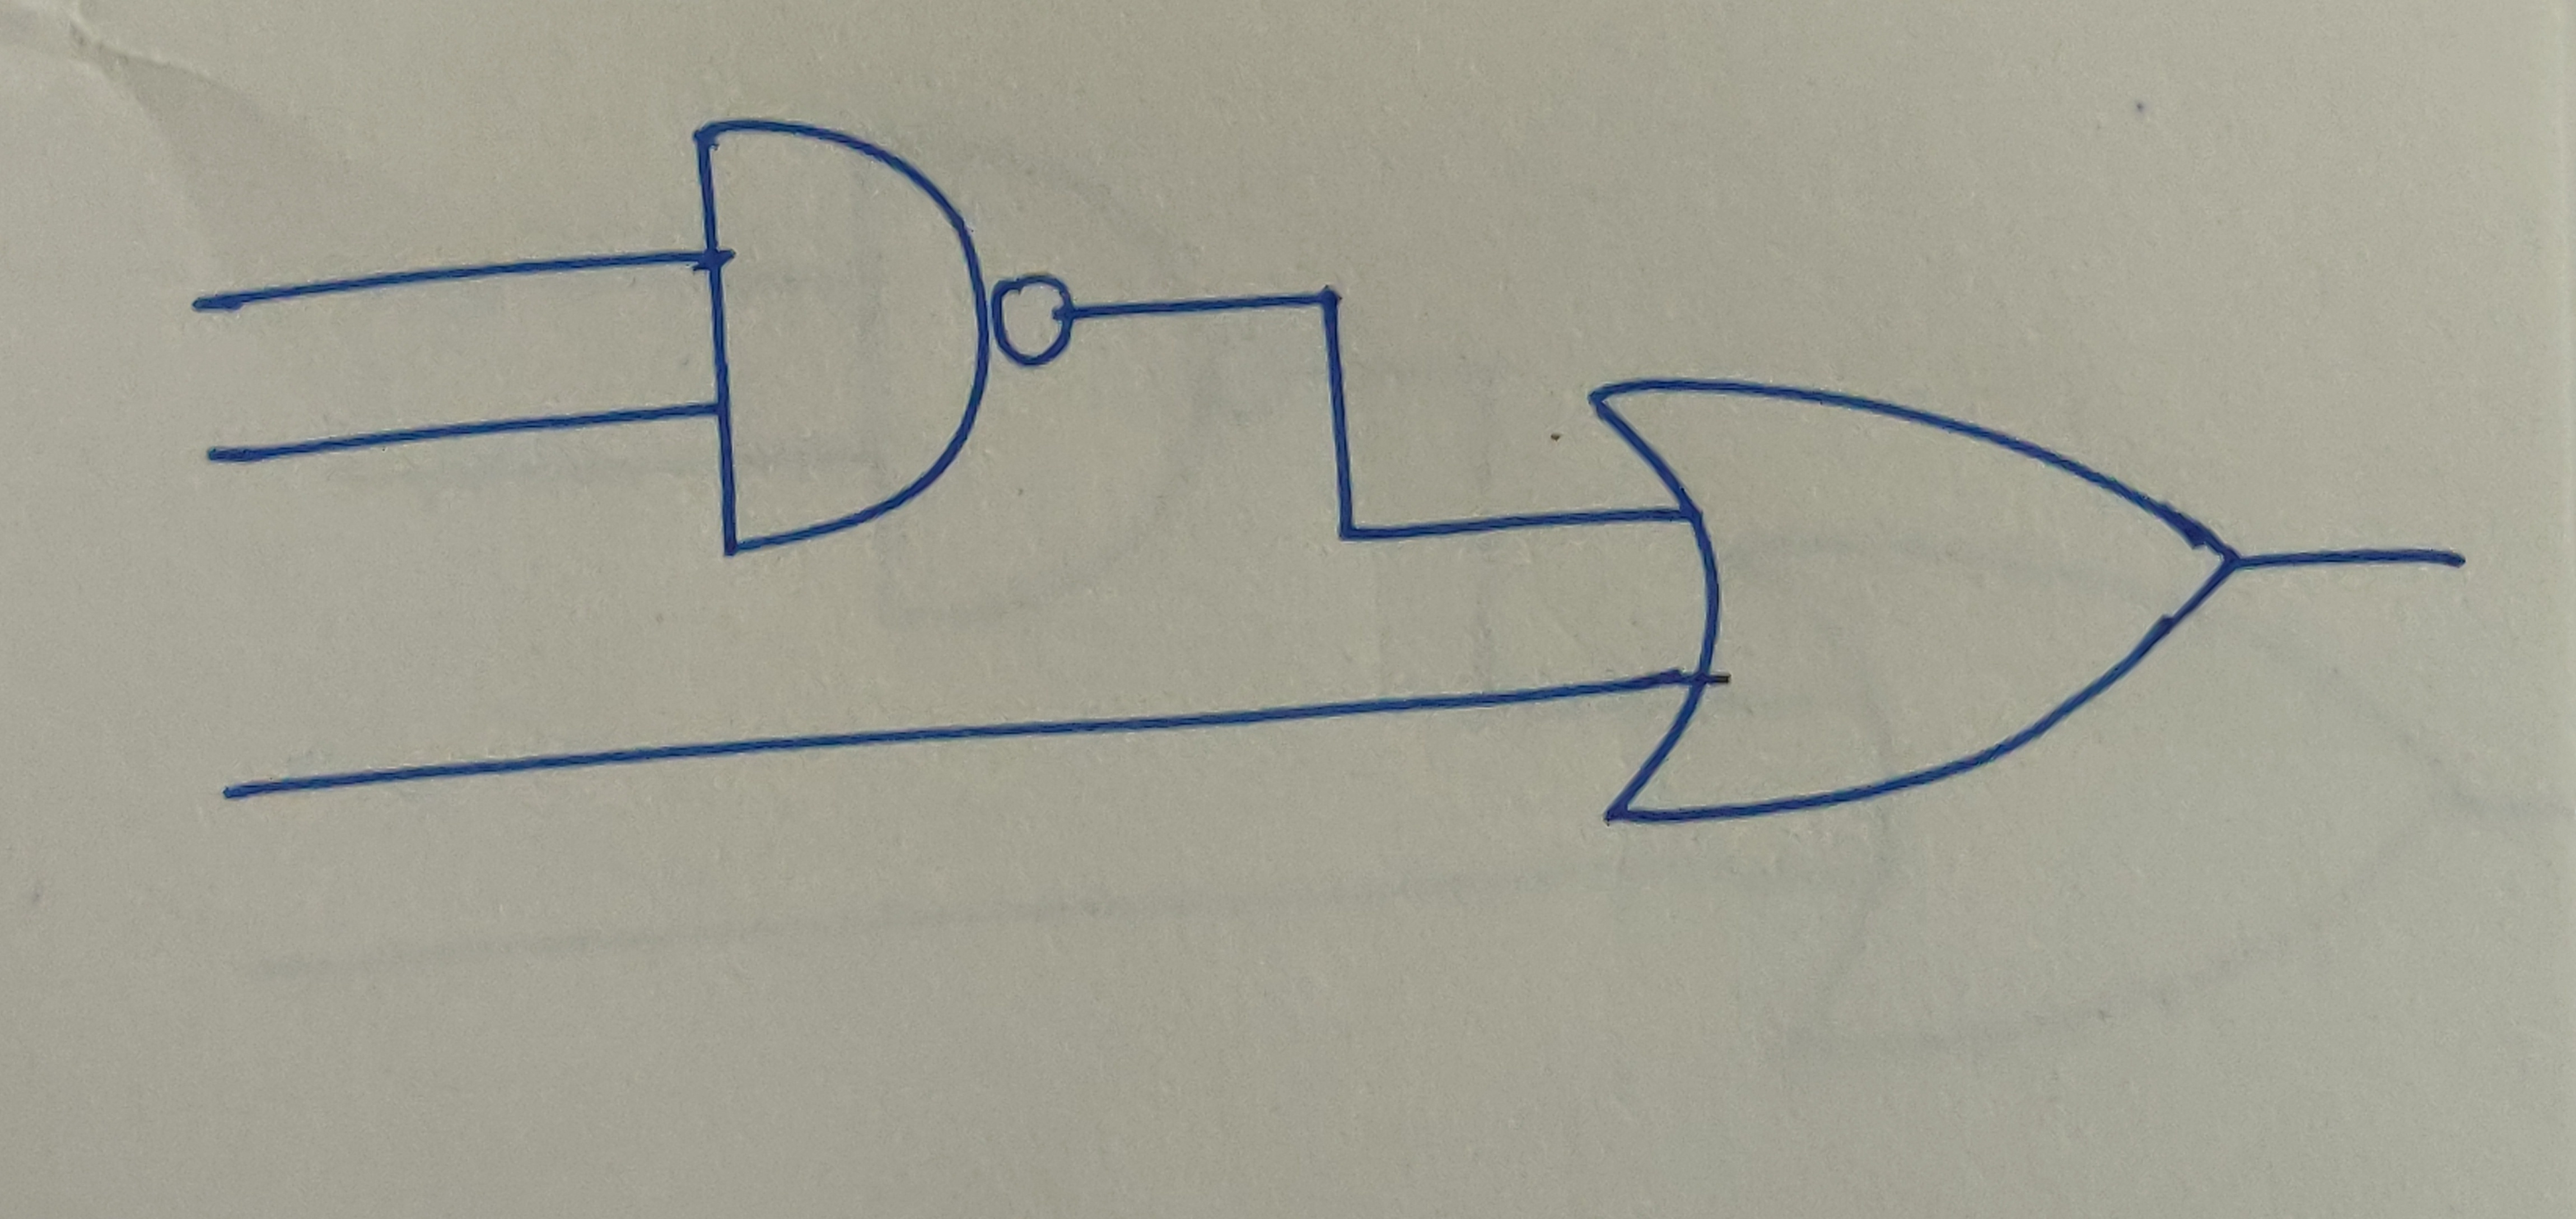and: (688, 118, 994, 567)
not: (987, 256, 1084, 375)
or: (1577, 375, 2256, 833)
